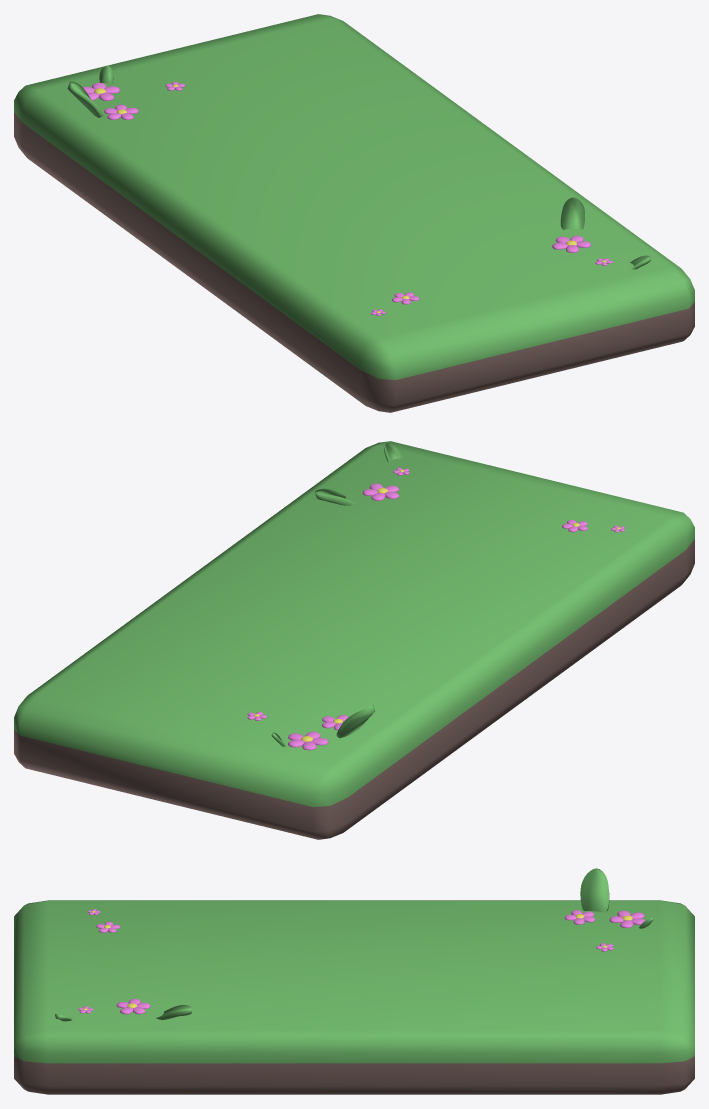
Rendered from widegrassfloor.fbx.
3 renders of one model, top to bottom at view 1: azimuth 30°, elevation 25°; view 2: azimuth 150°, elevation 25°; view 3: azimuth 270°, elevation 25°, orthographic. The views are drawn at different scales.
Visible parts, largest first — view 1: Struikk.001; view 2: Struikk.001; view 3: Struikk.001.
Part boxes in pixels (<box>): Struikk.001: <box>14,14,694,412</box>; Struikk.001: <box>14,441,694,839</box>; Struikk.001: <box>14,868,694,1094</box>.
Size of the model in its own units: 100 by 30.62 by 200.
